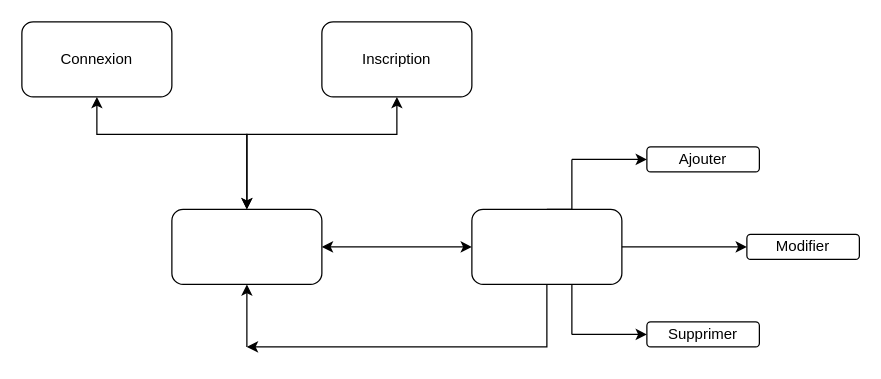
This 881x379 diagram has some shape labels left out. The shapes that lost their labels are listed below. From the top down, each one's centre as x and y in pixels, then its label:
the point at 246,246: Accueil
the point at 546,246: liste des Ligues
